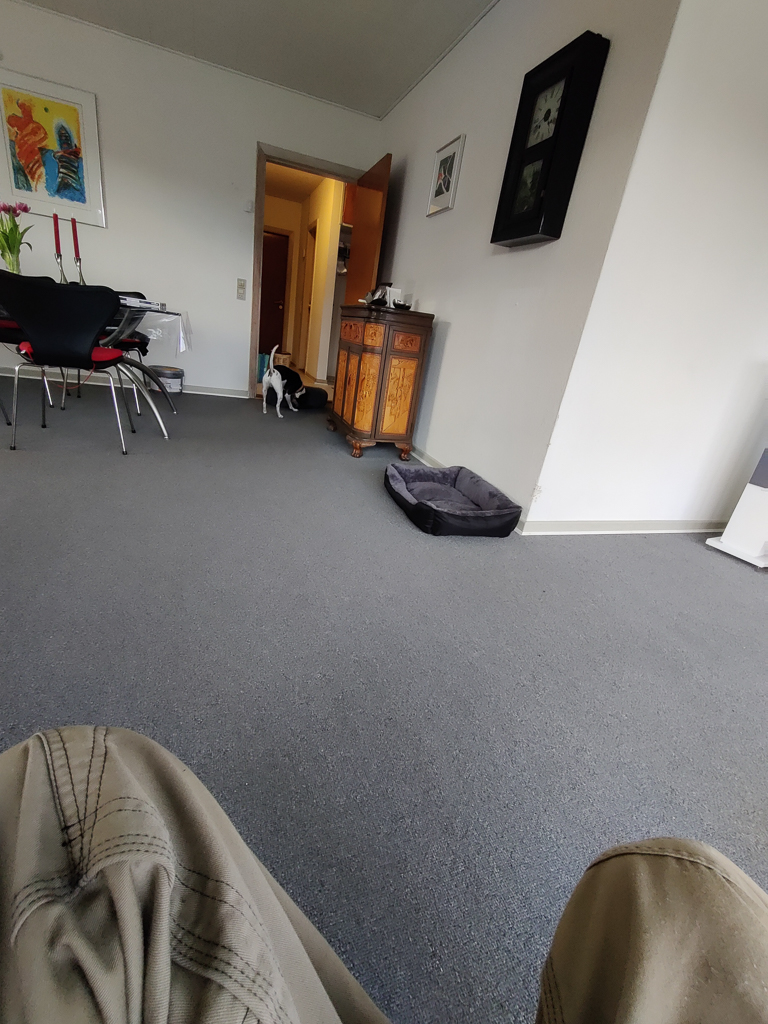Dog: (255, 340, 313, 421)
Humanoid: (0, 708, 768, 1024)
